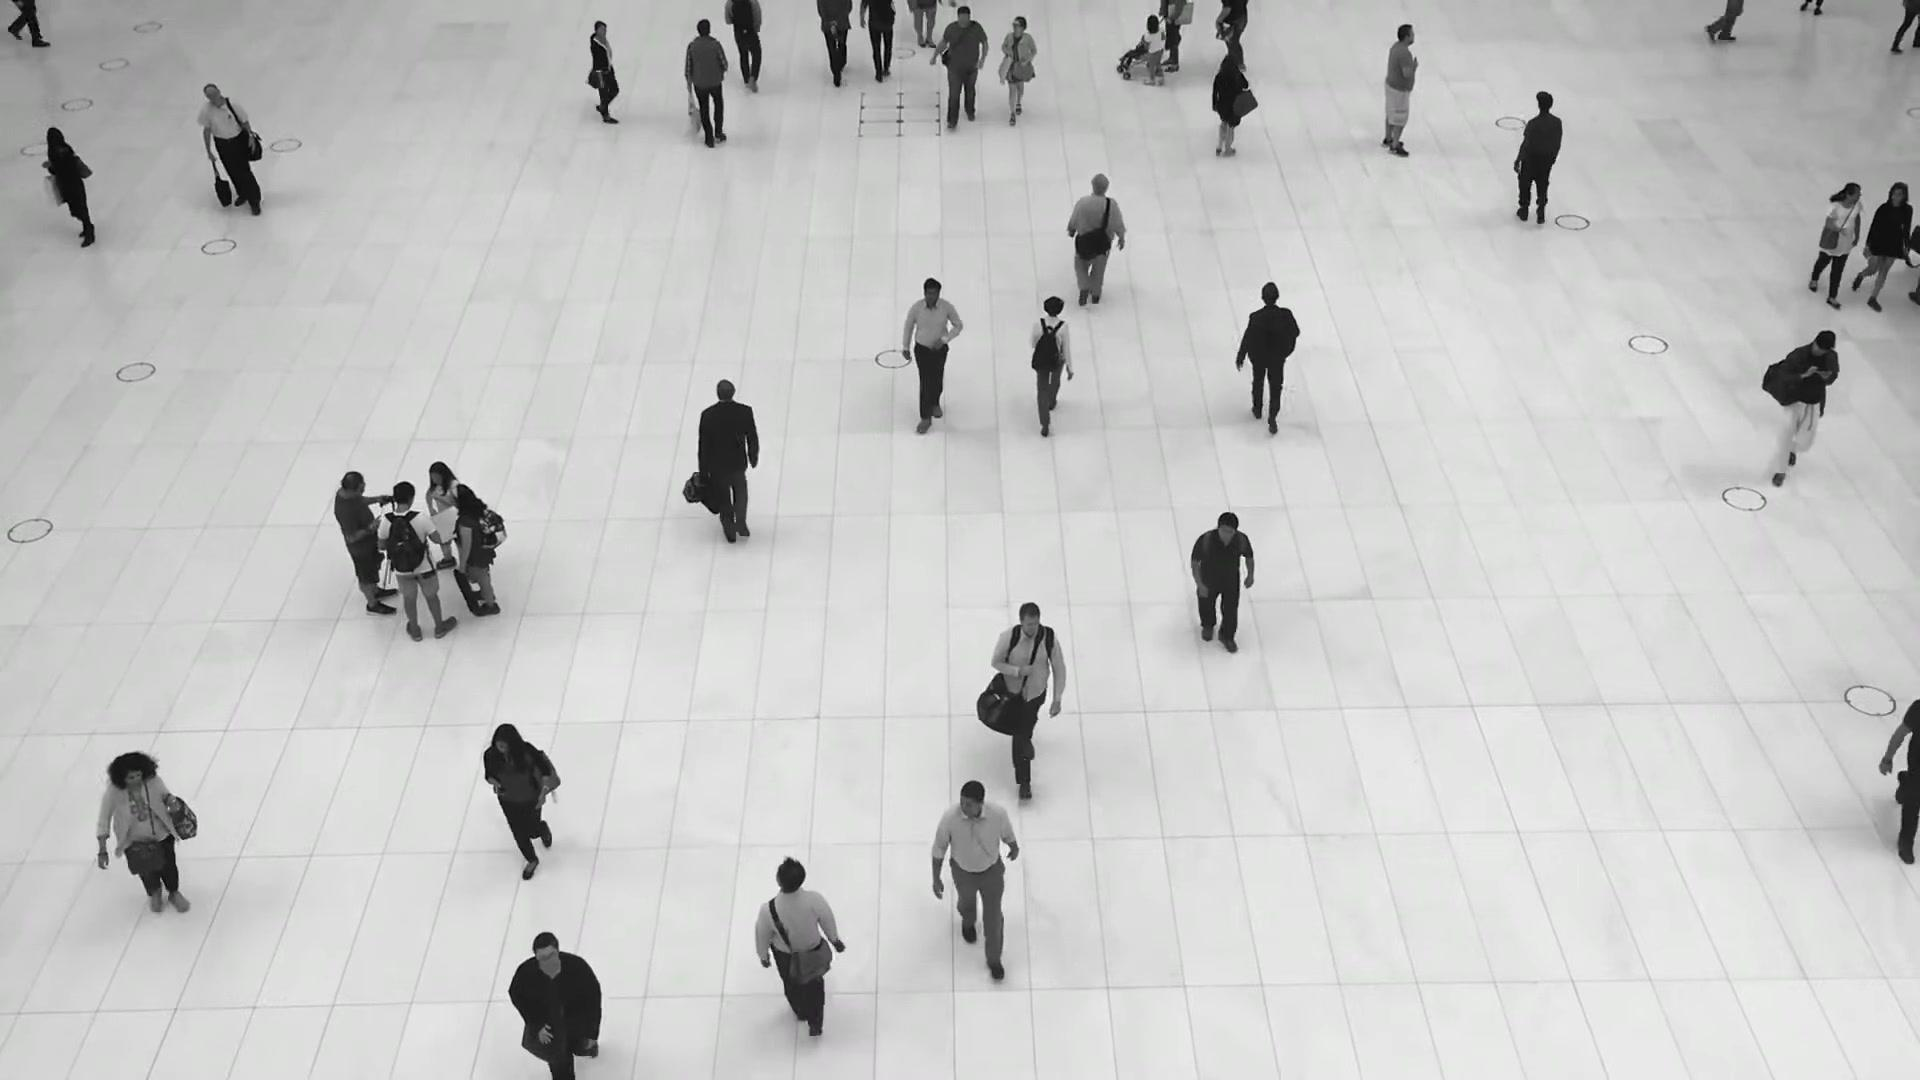person: (930, 778, 1023, 981), (94, 751, 194, 929), (754, 859, 842, 1040), (507, 924, 609, 1079), (988, 600, 1065, 797), (377, 480, 459, 640), (482, 720, 562, 880), (1761, 328, 1840, 486), (697, 381, 761, 556), (1186, 512, 1255, 661), (900, 277, 962, 439), (1236, 281, 1303, 432), (333, 469, 400, 615), (1063, 174, 1125, 313), (198, 84, 259, 217), (1853, 180, 1912, 311), (1512, 91, 1566, 229), (1804, 180, 1863, 305), (449, 483, 501, 616), (933, 5, 989, 130), (42, 126, 96, 248), (1027, 293, 1074, 431), (683, 21, 729, 155), (1381, 23, 1419, 157), (583, 20, 629, 125), (1206, 56, 1248, 163), (423, 460, 459, 580), (724, 0, 769, 93), (998, 15, 1036, 124), (1143, 13, 1166, 87)
